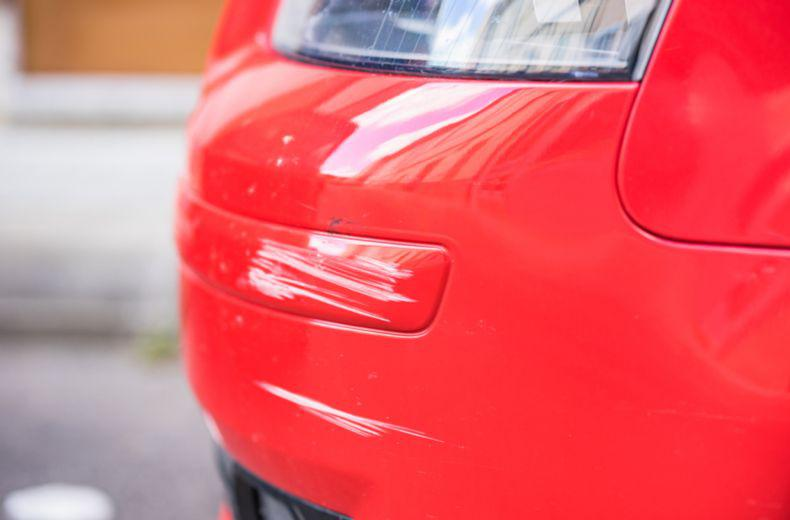front-bumper-dent: (176, 63, 640, 519)
